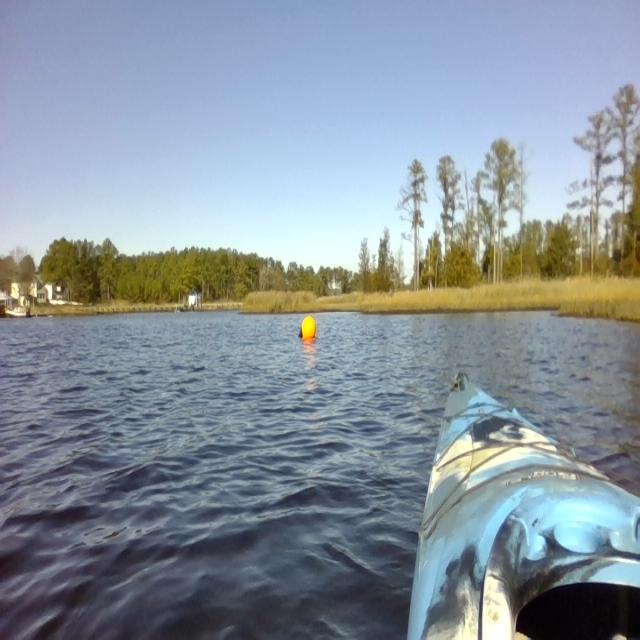Buoy: (296, 308, 320, 342)
